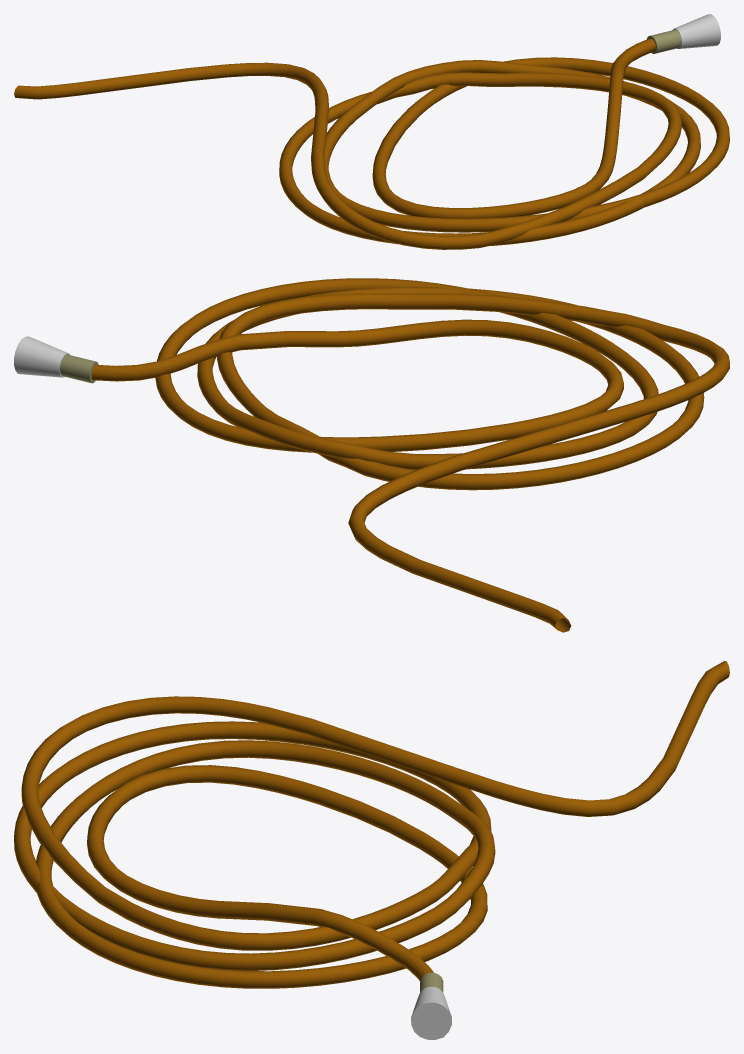
Rendered from Mockup_Cable.fbx.
The picture shows the model from 3 angles, top to bottom: view 1: azimuth 30°, elevation 25°; view 2: azimuth 150°, elevation 25°; view 3: azimuth 270°, elevation 25°; orthographic projection. The views are drawn at different scales.
Parts seen in each view (by area): view 1: Mockup_Cable; view 2: Mockup_Cable; view 3: Mockup_Cable.
Boxes of the visible parts, bbox=[...] form: Mockup_Cable: bbox=[14, 14, 729, 249]; Mockup_Cable: bbox=[14, 278, 729, 632]; Mockup_Cable: bbox=[14, 661, 729, 1039].
Size of the model in its own units: 59.23 by 3.67 by 49.43.
